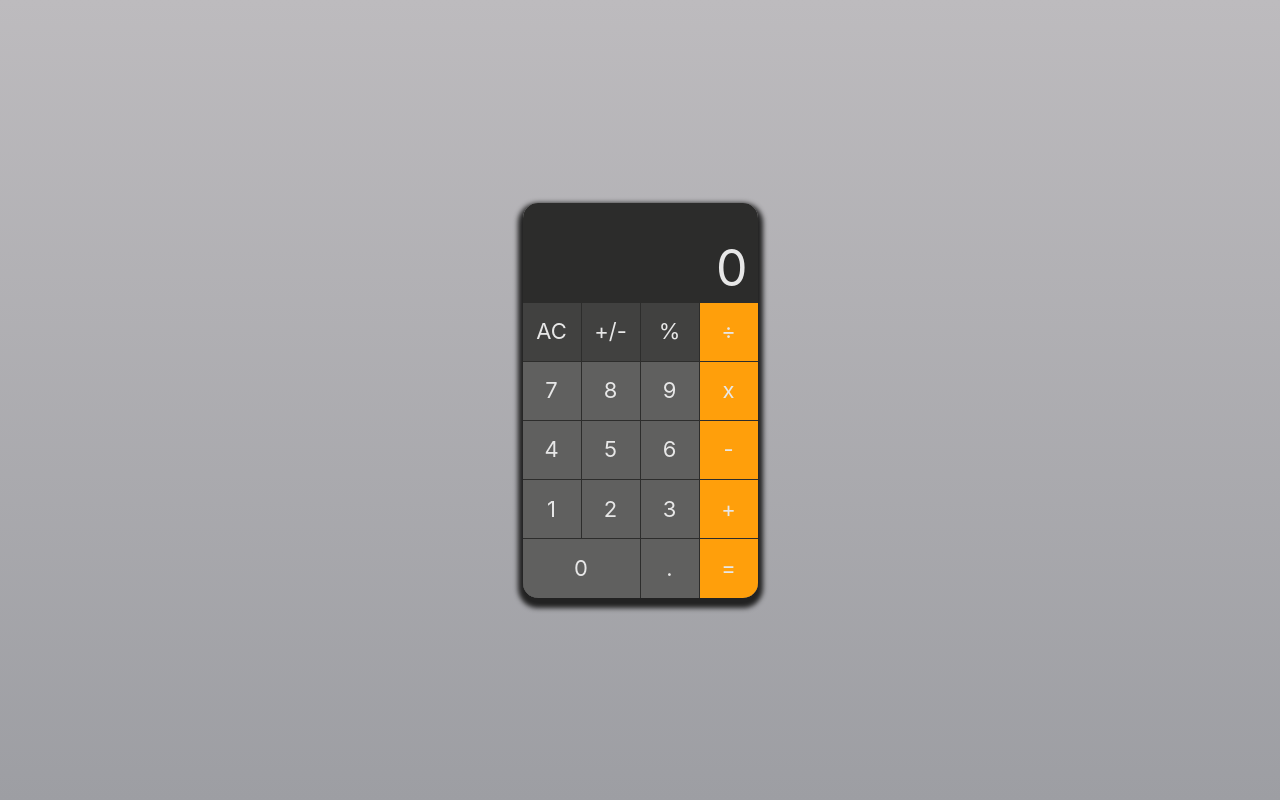
Calculator app › should handle addition of two numbers
This screenshot has width=1280, height=800.
What coordinates should you click on to do the following:
click the button "1"
I would click on:
 (552, 509)
Its box is [522,480,580,538].
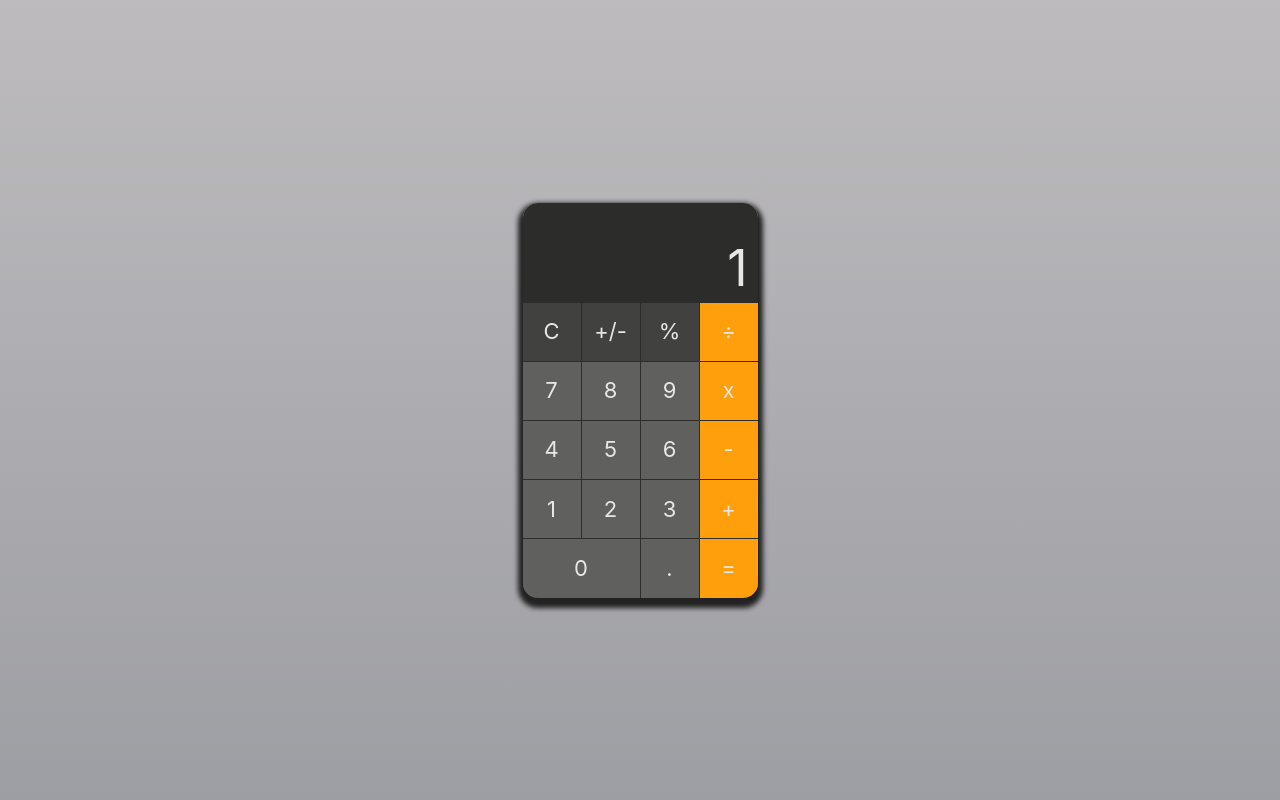
What coordinates should you click on to do the following:
click the button "+"
I would click on:
 (728, 509)
Its box is [700,480,758,538].
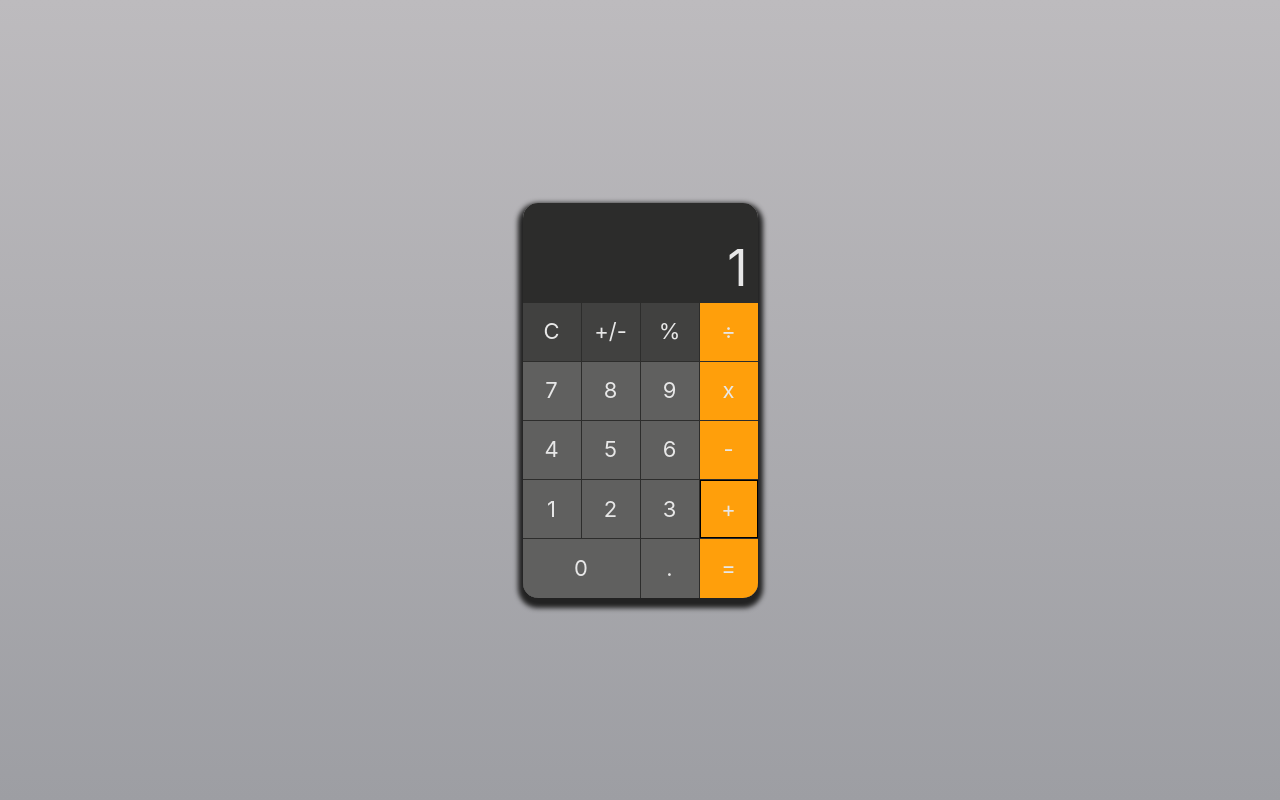
What coordinates should you click on to do the following:
click the button "2"
I would click on:
 (610, 509)
Its box is [582,480,640,538].
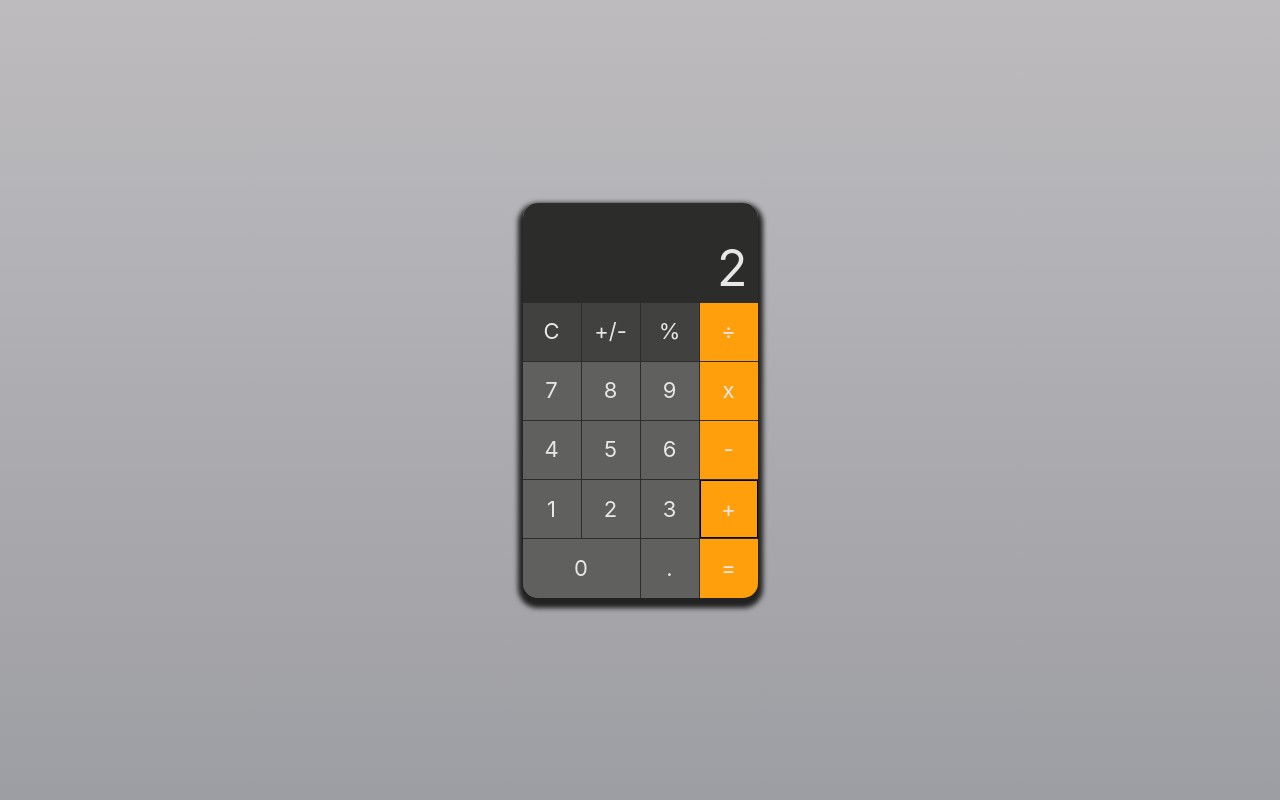
What coordinates should you click on to do the following:
click the button "="
I would click on:
 (728, 568)
Its box is [700,539,758,598].
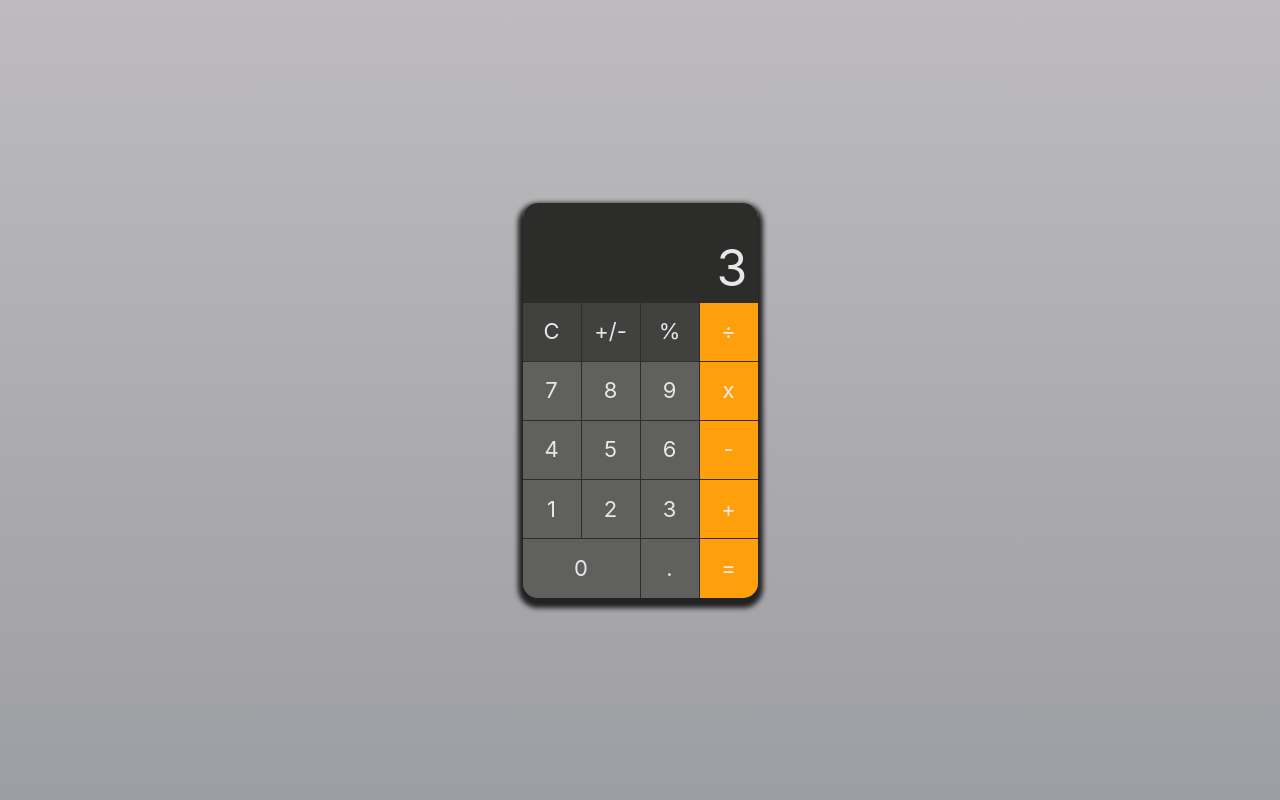
Result: the text "3" is shown at [522,202,758,302]
